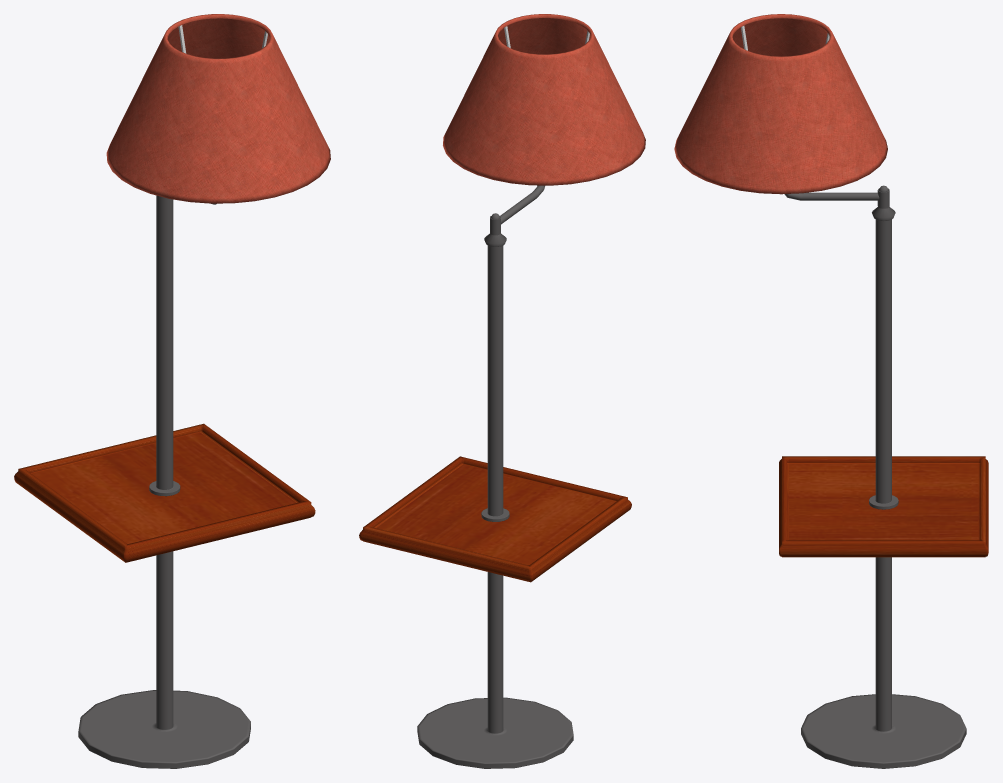
File: sh_scopia_living_lamp.glb
3 renders of one model, left to right at view 1: azimuth 30°, elevation 25°; view 2: azimuth 150°, elevation 25°; view 3: azimuth 270°, elevation 25°, orthographic. The views are drawn at different scales.
Size of the model in its own units: 0.396 by 1.43 by 0.583.
Materials: 5 (2 with a texture image).
